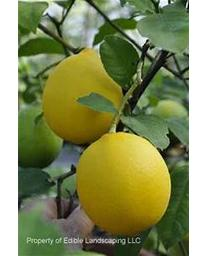lemon: (74, 132, 170, 233), (45, 47, 123, 142), (19, 105, 63, 169)
